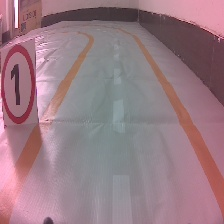limit: (1, 38, 43, 128)
